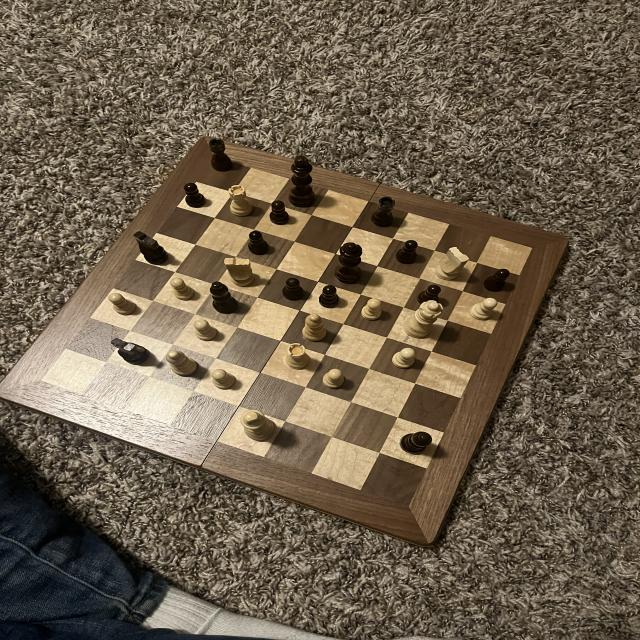bishop: (209, 278, 243, 317), (396, 430, 436, 457)
black-bishop: (288, 151, 320, 210)
black-king: (128, 229, 171, 268), (111, 336, 156, 370)
black-knight: (108, 290, 142, 320), (467, 298, 506, 324), (391, 236, 424, 266), (480, 266, 514, 295), (182, 179, 210, 212), (265, 198, 294, 228), (358, 295, 390, 322), (316, 282, 345, 310), (390, 346, 422, 371), (280, 277, 309, 304), (247, 228, 273, 257), (193, 318, 223, 343), (317, 367, 349, 390), (169, 276, 198, 301), (211, 368, 241, 392), (416, 283, 442, 307)
black-pawn: (332, 240, 367, 287)
black-queen: (205, 136, 237, 173), (370, 194, 400, 232)
black-rook: (162, 349, 202, 378), (301, 311, 332, 341)
white-bishop: (236, 406, 282, 446)
white-king: (432, 243, 470, 283), (224, 254, 260, 291)
white-pawn: (397, 298, 445, 340)
white-queen: (227, 181, 257, 219), (284, 340, 313, 371)
